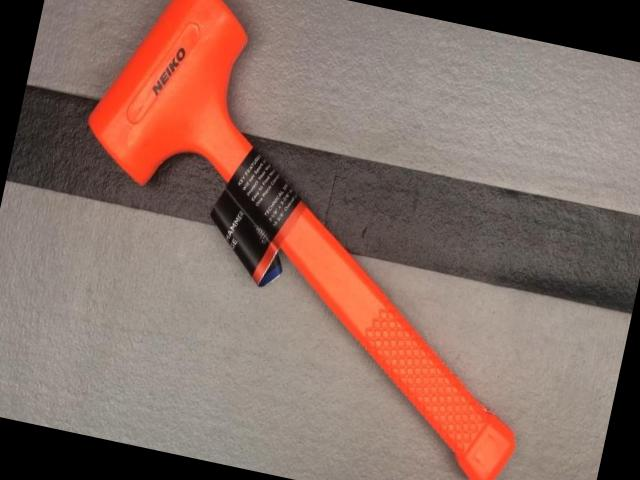hammer: (26, 0, 599, 480)
